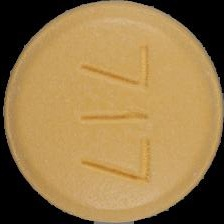21695-040: (0, 0, 224, 224)
